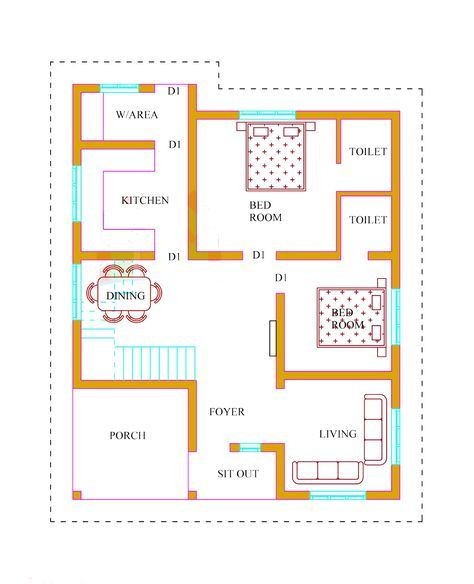room: (77, 260, 279, 391), (196, 382, 398, 502), (200, 119, 336, 250), (279, 260, 396, 374), (72, 141, 188, 252), (71, 82, 190, 142), (341, 120, 393, 190), (341, 196, 391, 250)
wall: (387, 105, 406, 287), (64, 375, 200, 400), (185, 81, 203, 266), (277, 369, 394, 389), (179, 373, 206, 455), (68, 83, 90, 166), (295, 109, 408, 125), (274, 294, 292, 393), (68, 319, 90, 394), (262, 439, 289, 500), (72, 135, 159, 153), (183, 243, 246, 266), (68, 248, 162, 263), (275, 248, 341, 269), (390, 345, 411, 409), (332, 109, 354, 169), (331, 185, 394, 204), (180, 111, 246, 126), (386, 468, 413, 504), (273, 484, 310, 510), (334, 191, 347, 261), (365, 484, 401, 507), (65, 77, 101, 99), (70, 224, 87, 264), (364, 245, 393, 266), (139, 82, 166, 99)
window: (311, 477, 367, 512), (386, 287, 415, 348), (383, 405, 411, 468), (237, 96, 302, 123), (67, 165, 93, 222), (64, 263, 88, 320), (102, 74, 139, 99), (238, 438, 262, 460)
